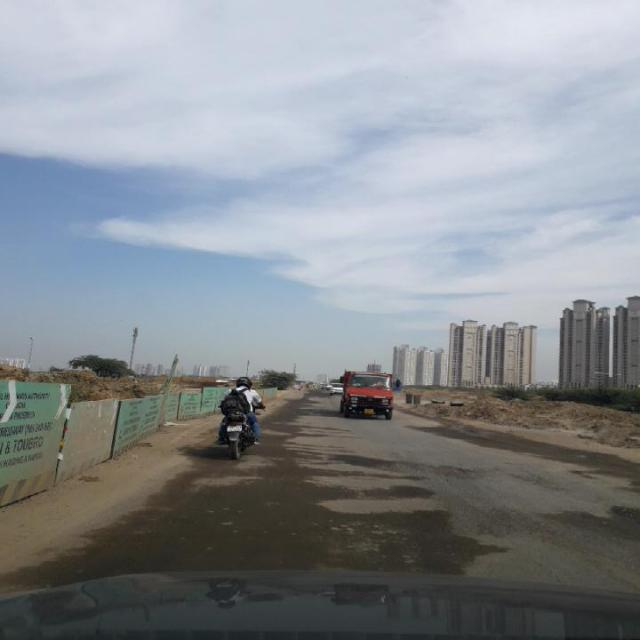Surface Erosion: (170, 359, 533, 589)
